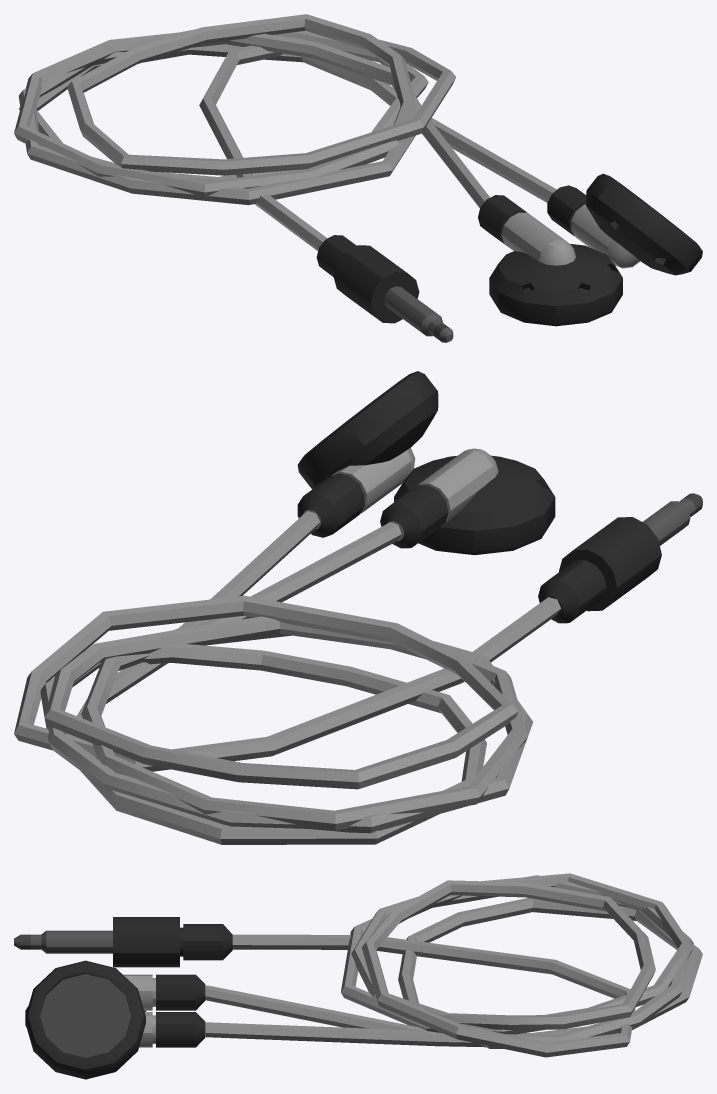
Rendered from Headphones_02.glb.
The picture shows the model from 3 angles, top to bottom: view 1: azimuth 30°, elevation 25°; view 2: azimuth 150°, elevation 25°; view 3: azimuth 270°, elevation 25°; orthographic projection. The views are drawn at different scales.
Visible parts, largest first — view 1: Mesh_Headphones_03; view 2: Mesh_Headphones_03; view 3: Mesh_Headphones_03.
Boxes of the visible parts, x1=… form: Mesh_Headphones_03: x1=14, y1=14, x2=702, y2=342; Mesh_Headphones_03: x1=14, y1=371, x2=702, y2=844; Mesh_Headphones_03: x1=14, y1=873, x2=702, y2=1079.
Bounding box in the file's own units: 0.0567 × 0.0139 × 0.0903.
1 material, 1 textured.
